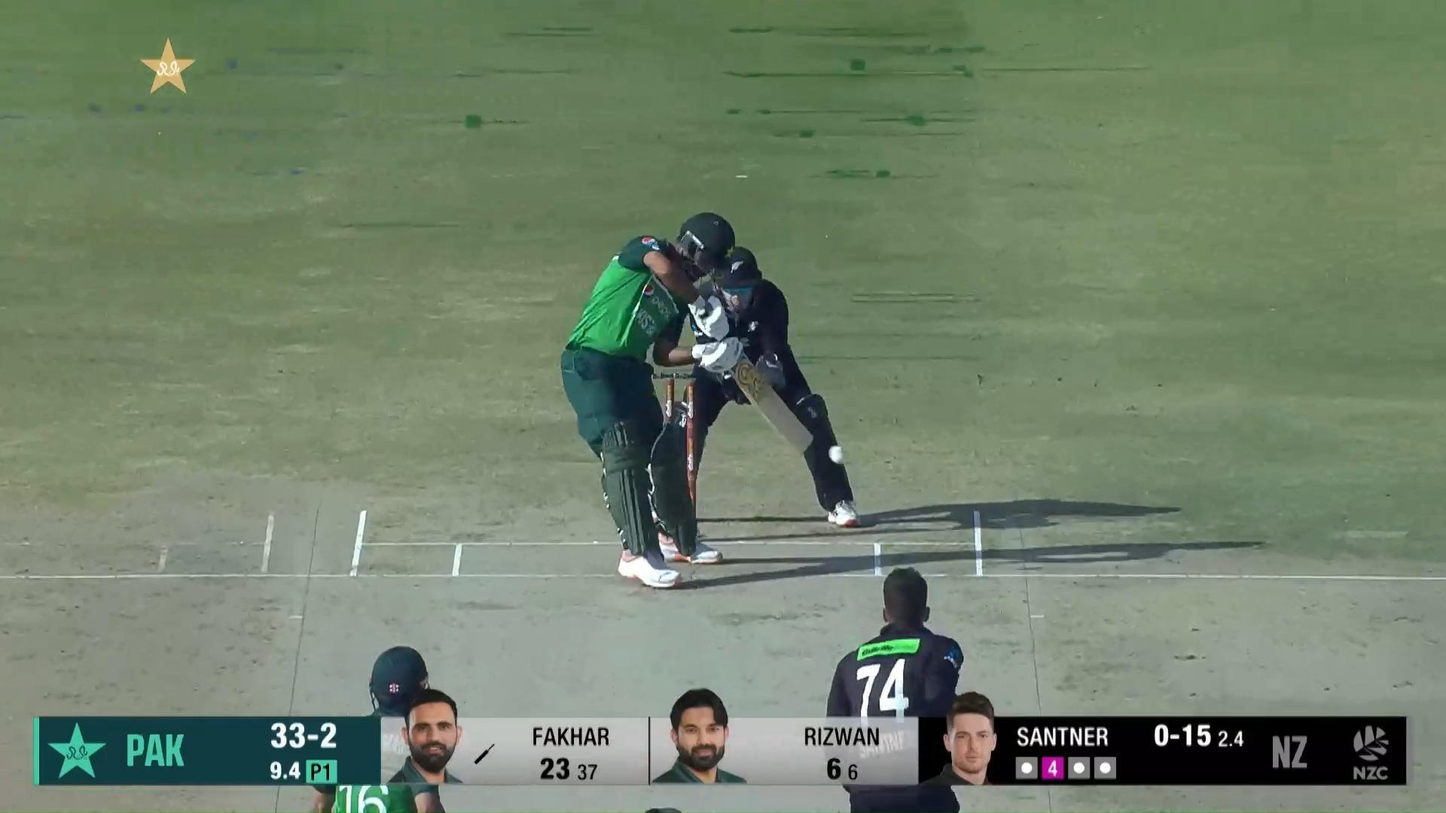BM 1: (560, 210, 815, 591)
BO: (823, 565, 969, 813)
